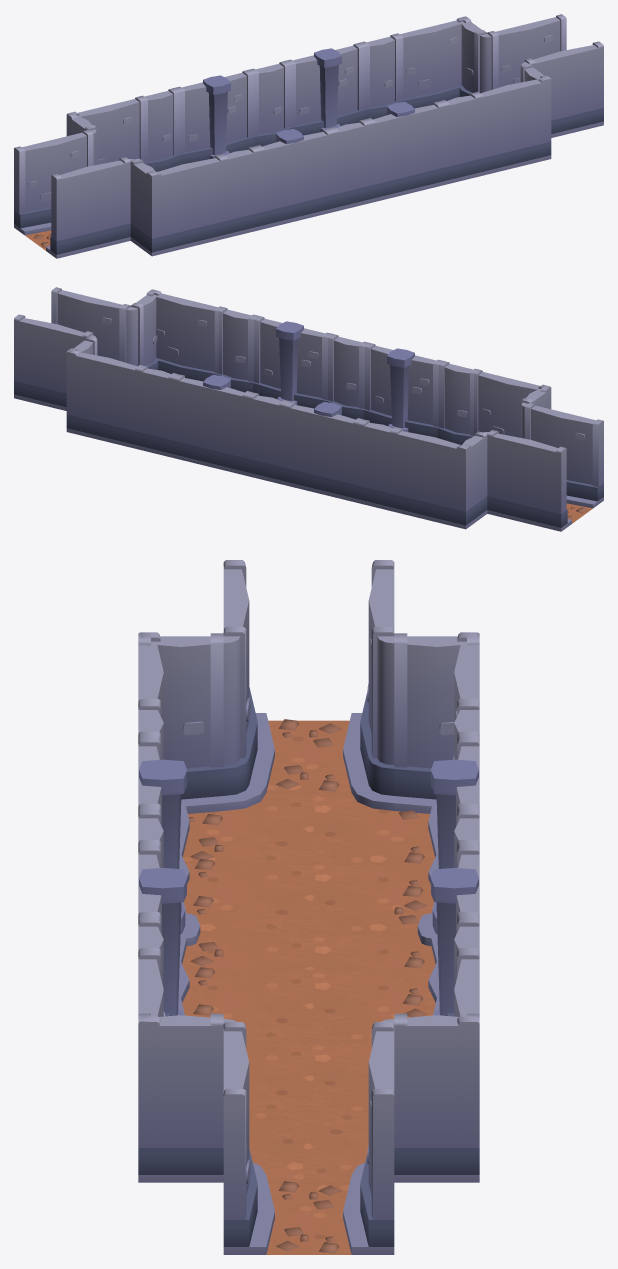
File: 2 section hallway straight.glb
The picture shows the model from 3 angles, top to bottom: view 1: azimuth 30°, elevation 25°; view 2: azimuth 150°, elevation 25°; view 3: azimuth 270°, elevation 25°; orthographic projection. The views are drawn at different scales.
Parts seen in each view (by area): view 1: corridor-wide, corridor-transition, corridor-transition.001, corridor-wide.001; view 2: corridor-transition, corridor-wide, corridor-wide.001, corridor-transition.001; view 3: corridor-transition.001, corridor-transition, corridor-wide, corridor-wide.001.
Boxes of the visible parts, left/top/right/bottom form: corridor-wide: left=138, top=61, right=370, bottom=238; corridor-transition: left=14, top=96, right=225, bottom=258; corridor-transition.001: left=396, top=14, right=603, bottom=175; corridor-wide.001: left=249, top=34, right=480, bottom=202; corridor-transition: left=392, top=369, right=603, bottom=531; corridor-wide: left=247, top=334, right=478, bottom=511; corridor-wide.001: left=137, top=307, right=363, bottom=481; corridor-transition.001: left=14, top=287, right=224, bottom=448; corridor-transition.001: left=138, top=950, right=479, bottom=1254; corridor-transition: left=138, top=560, right=479, bottom=864; corridor-wide: left=138, top=701, right=479, bottom=1005; corridor-wide.001: left=138, top=809, right=479, bottom=1113.
Size of the model in its own units: 29.6 by 4.23 by 8.
2 materials, 2 textured.
